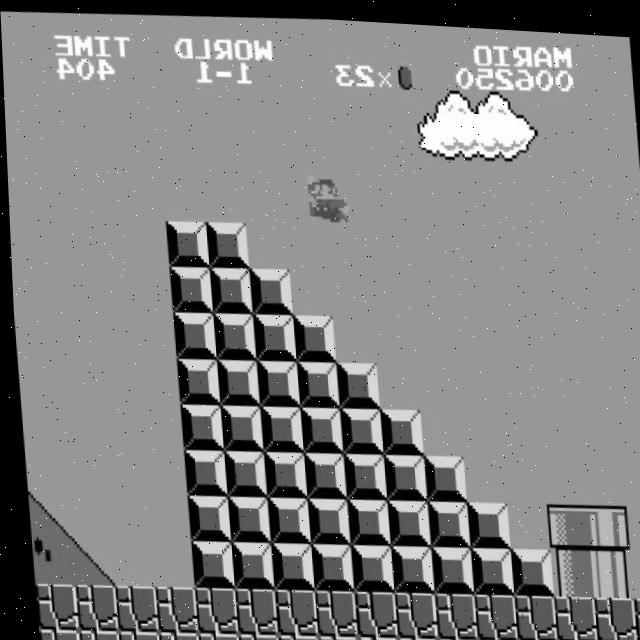11- little_mario: (304, 167, 351, 220)
14- pipe: (585, 542, 629, 591), (545, 542, 589, 591)
15- pipe_head: (581, 497, 626, 546), (541, 496, 586, 545)
17- undestructible_block: (348, 585, 393, 634), (308, 585, 353, 634), (268, 585, 313, 634), (228, 584, 273, 633), (188, 583, 233, 632), (148, 583, 193, 632), (108, 583, 153, 632), (68, 582, 113, 631), (588, 588, 632, 637), (548, 588, 592, 637), (508, 587, 552, 636), (468, 587, 512, 636), (428, 587, 472, 636), (388, 586, 432, 635), (29, 581, 73, 630), (628, 588, 640, 637), (72, 627, 114, 640), (32, 627, 74, 640), (152, 628, 194, 640), (112, 628, 154, 640), (192, 629, 234, 640), (272, 630, 314, 640), (232, 630, 274, 640), (391, 631, 434, 640), (351, 631, 394, 640), (312, 631, 354, 640), (471, 632, 514, 640), (431, 632, 474, 640), (551, 633, 594, 640), (511, 633, 554, 640), (591, 634, 634, 640), (631, 634, 640, 640)
8- goomba: (635, 543, 640, 594)
9- hard_block: (375, 403, 420, 452), (335, 402, 380, 451), (289, 310, 334, 359), (295, 402, 340, 451), (249, 310, 294, 359), (255, 401, 300, 450), (265, 538, 310, 587), (206, 264, 251, 313), (209, 309, 254, 358), (222, 493, 267, 542), (225, 538, 270, 587), (166, 263, 211, 312), (169, 309, 214, 358), (182, 492, 227, 541), (185, 537, 230, 586), (418, 449, 463, 497), (378, 449, 423, 497), (332, 357, 377, 405), (292, 356, 337, 404), (252, 356, 297, 404), (212, 355, 257, 403), (172, 355, 217, 403), (505, 541, 549, 590), (462, 495, 506, 544), (465, 541, 509, 590), (422, 495, 466, 544), (425, 540, 469, 589), (382, 495, 426, 544), (385, 540, 429, 589), (342, 494, 386, 543), (345, 539, 389, 588), (302, 493, 346, 542), (305, 539, 349, 588), (246, 264, 290, 313), (262, 493, 306, 542), (216, 401, 260, 450), (176, 401, 220, 450), (339, 448, 383, 496), (299, 448, 343, 496), (259, 447, 303, 495), (203, 218, 247, 266), (219, 447, 263, 495), (163, 218, 207, 266), (179, 447, 223, 495)
